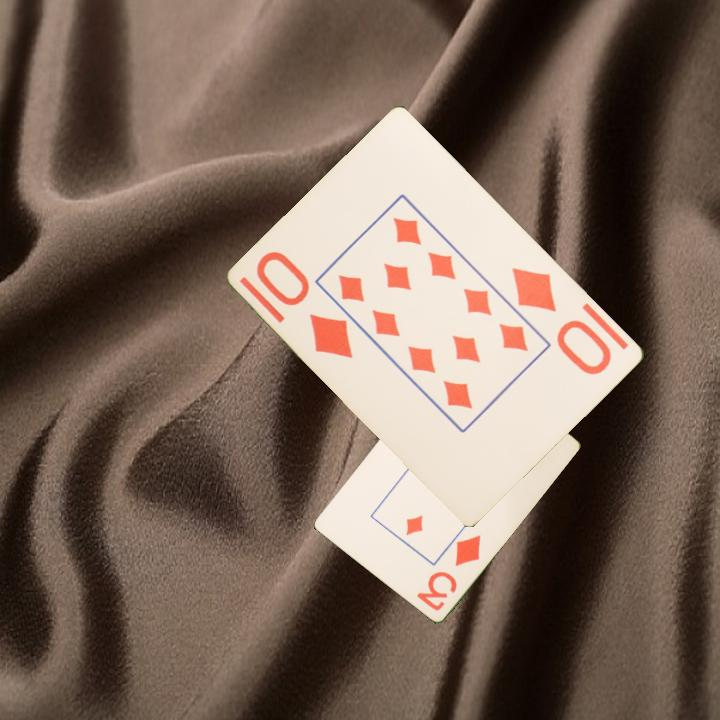10d: (509, 263, 616, 378), (253, 247, 357, 362)
3d: (413, 531, 484, 613)
